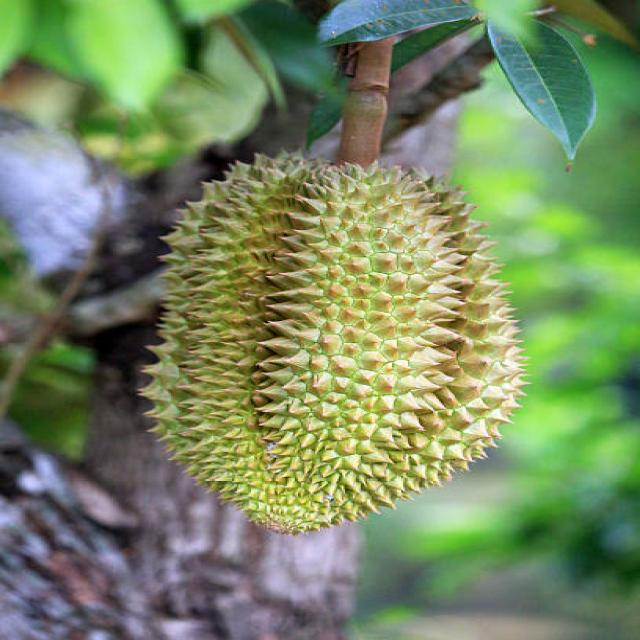mature: (142, 154, 525, 533)
